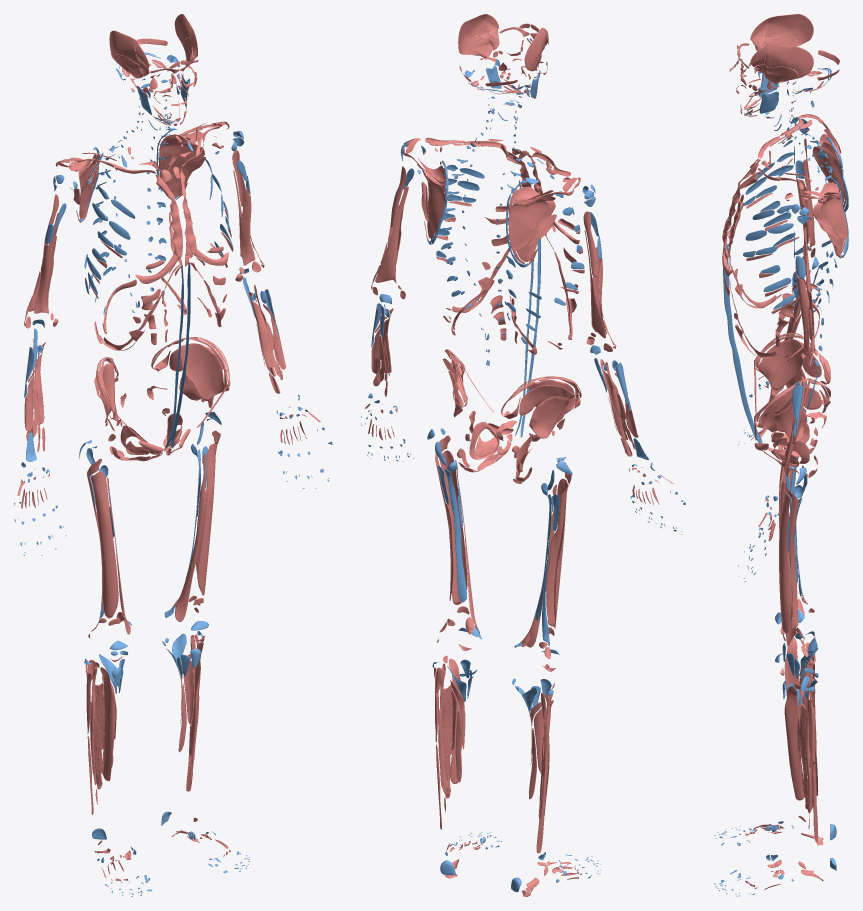
Rendered from muscle_attachments.glb.
3 renders of one model, left to right at view 1: azimuth 30°, elevation 25°; view 2: azimuth 150°, elevation 25°; view 3: azimuth 270°, elevation 25°, orthographic. The views are drawn at different scales.
Visible parts, largest first — view 1: Origin of vastus intermedius muscle (R), Origin of iliacus muscle (L), Origin of subscapularis muscle (L), Origin of vastus intermedius muscle (L), Origin of tibialis anterior muscle (R), Origin of vastus medialis muscle (L), Origin of brachialis muscle (R), Origin of brachialis muscle (L), Origin of ulnar head of flexor carpi ulnaris (L), Insertion of rectus abdominis muscle (L), Origin of temporalis muscle (2) (R); view 2: Origin of infraspinatus muscle (R), Origin of vastus intermedius muscle (L), Origin of vastus lateralis muscle (R), Origin of gluteus minimus muscle (R), Insertion of adductor magnus (L), Origin of medial head of triceps brachii (L), Origin of tibialis posterior muscle (L), Origin of gluteus medius muscle (R), Origin of infraspinatus muscle (L), Origin of vastus intermedius muscle (R), Origin of temporalis muscle (2) (L); view 3: Origin of iliacus muscle (R), Origin of tibialis anterior muscle (L), Origin of vastus intermedius muscle (L), Origin of temporalis muscle (2) (L), Origin of temporalis muscle (2) (R), Insertion of rectus abdominis muscle (L), Origin of vastus lateralis muscle (L), Origin of infraspinatus muscle (L), Origin of subscapularis muscle (R), Origin of gluteus minimus muscle (L), Origin of brachialis muscle (L), Origin of iliacus muscle (L) (+17 smaller).
Boxes of the visible parts, x1,y1,x2,y2 form: Origin of vastus intermedius muscle (R): (91, 471, 118, 618); Origin of iliacus muscle (L): (180, 343, 224, 401); Origin of subscapularis muscle (L): (163, 136, 204, 196); Origin of vastus intermedius muscle (L): (197, 443, 217, 595); Origin of tibialis anterior muscle (R): (100, 667, 115, 781); Origin of vastus medialis muscle (L): (175, 453, 206, 621); Origin of brachialis muscle (R): (34, 235, 56, 313); Origin of brachialis muscle (L): (239, 188, 255, 265); Origin of ulnar head of flexor carpi ulnaris (L): (248, 292, 276, 367); Insertion of rectus abdominis muscle (L): (170, 262, 190, 446); Origin of temporalis muscle (2) (R): (109, 30, 139, 64); Origin of infraspinatus muscle (R): (508, 196, 555, 251); Origin of vastus intermedius muscle (L): (439, 450, 467, 605); Origin of vastus lateralis muscle (R): (546, 465, 571, 626); Origin of gluteus minimus muscle (R): (529, 397, 569, 438); Insertion of adductor magnus (L): (444, 469, 481, 639); Origin of medial head of triceps brachii (L): (375, 186, 408, 282); Origin of tibialis posterior muscle (L): (441, 684, 456, 757); Origin of gluteus medius muscle (R): (519, 385, 574, 415); Origin of infraspinatus muscle (L): (417, 163, 445, 231); Origin of vastus intermedius muscle (R): (553, 478, 567, 628); Origin of temporalis muscle (2) (L): (458, 14, 489, 54); Origin of iliacus muscle (R): (758, 339, 805, 390); Origin of tibialis anterior muscle (L): (784, 686, 804, 800); Origin of vastus intermedius muscle (L): (779, 490, 790, 634); Origin of temporalis muscle (2) (L): (764, 44, 813, 77); Origin of temporalis muscle (2) (R): (764, 14, 813, 45); Insertion of rectus abdominis muscle (L): (723, 247, 761, 443); Origin of vastus lateralis muscle (L): (783, 479, 798, 629); Origin of infraspinatus muscle (L): (820, 194, 847, 239); Origin of subscapularis muscle (R): (812, 145, 844, 202); Origin of gluteus minimus muscle (L): (774, 405, 806, 441); Origin of brachialis muscle (L): (795, 266, 809, 352); Origin of iliacus muscle (L): (758, 382, 805, 432).
Size of the model in its own units: 0.6761 by 1.69 by 0.2472.
